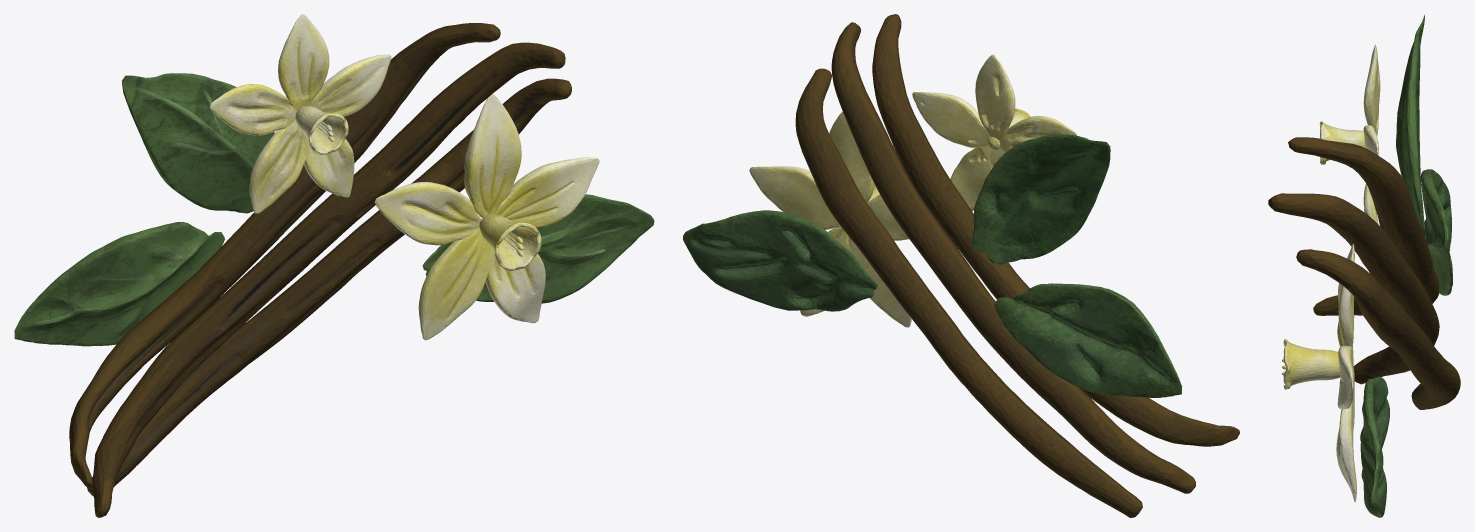
File: Vainilla.glb
The picture shows the model from 3 angles, left to right: view 1: azimuth 30°, elevation 25°; view 2: azimuth 150°, elevation 25°; view 3: azimuth 270°, elevation 25°; orthographic projection. The views are drawn at different scales.
Visible parts, largest first — view 1: Tube_Tube, Flor_Flor, Hoja_Hoja; view 2: Tube_Tube, Hoja_Hoja, Flor_Flor; view 3: Tube_Tube, Hoja_Hoja, Flor_Flor.
Boxes of the visible parts, x1=… form: Tube_Tube: x1=69, y1=23, x2=571, y2=517; Flor_Flor: x1=209, y1=14, x2=599, y2=340; Hoja_Hoja: x1=14, y1=73, x2=654, y2=346; Tube_Tube: x1=795, y1=14, x2=1239, y2=517; Hoja_Hoja: x1=683, y1=133, x2=1181, y2=397; Flor_Flor: x1=749, y1=54, x2=1076, y2=327; Tube_Tube: x1=1268, y1=137, x2=1460, y2=409; Hoja_Hoja: x1=1360, y1=14, x2=1452, y2=517; Flor_Flor: x1=1281, y1=44, x2=1380, y2=501.
Bounding box in the file's own units: 14.46 × 10.53 × 4.08.
3 materials, 3 textured.
